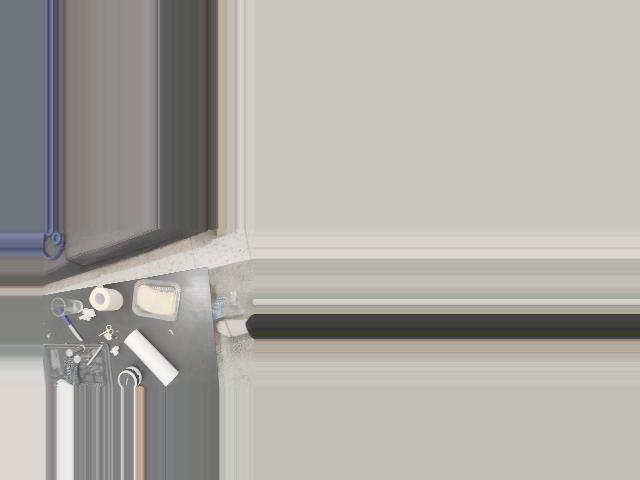cheese: (131, 277, 185, 322)
